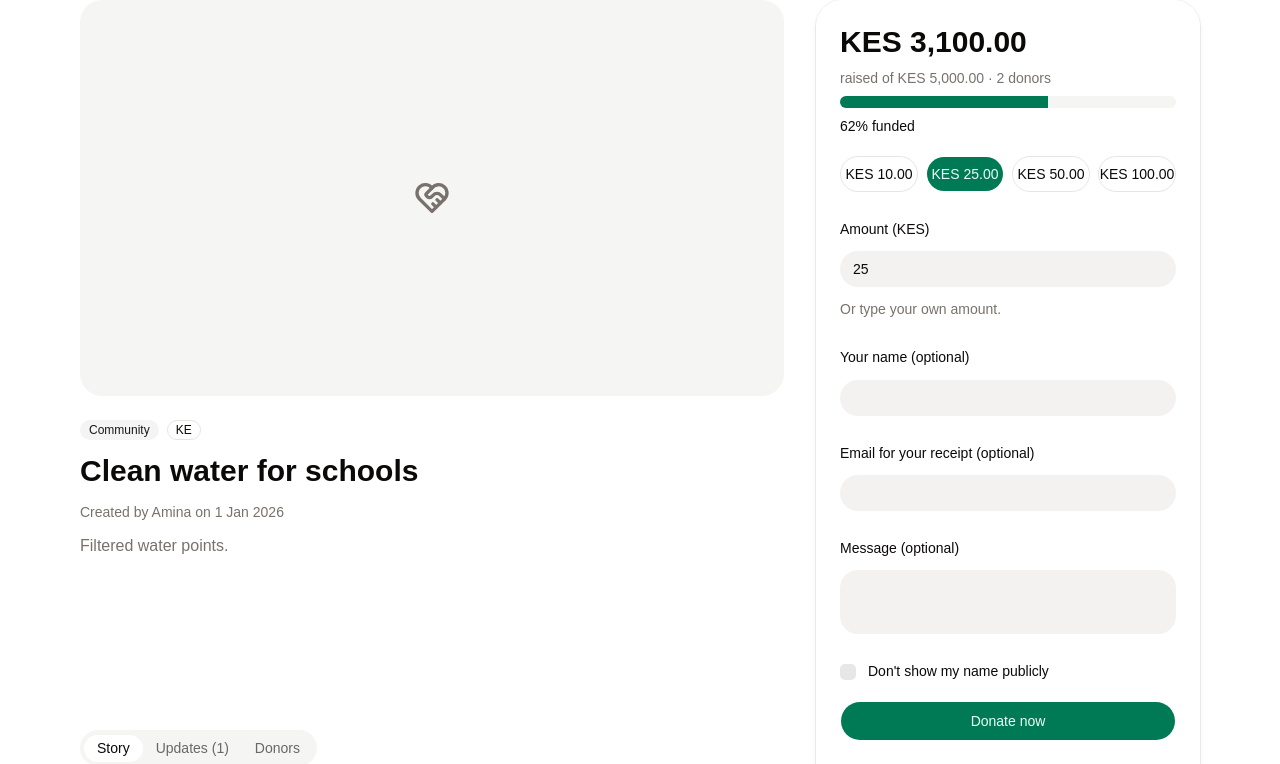
CampaignDetailsPage › switches between the story, updates and donors tabs
Click the tab "Updates (1)".
click(192, 748)  # box [143, 734, 242, 762]
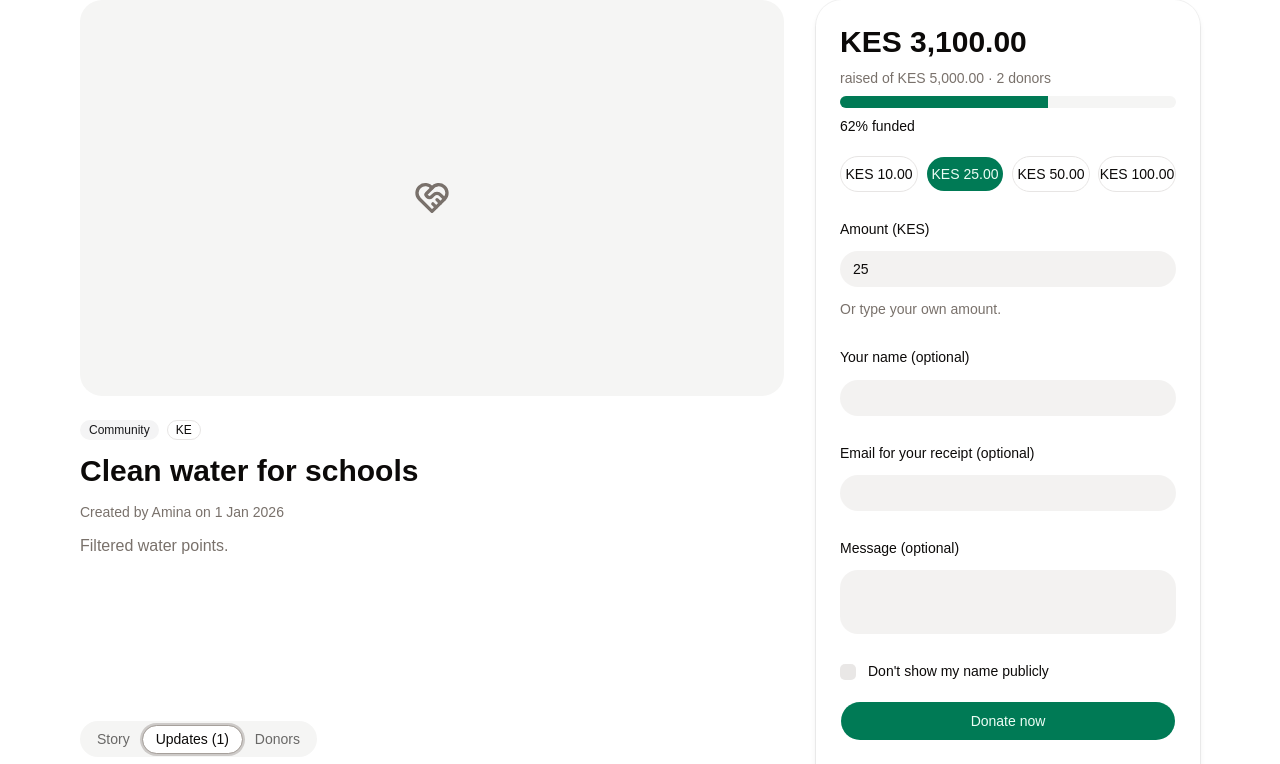
Click the tab "Donors".
click(277, 739)  # box [242, 726, 313, 753]
(page scrolled)
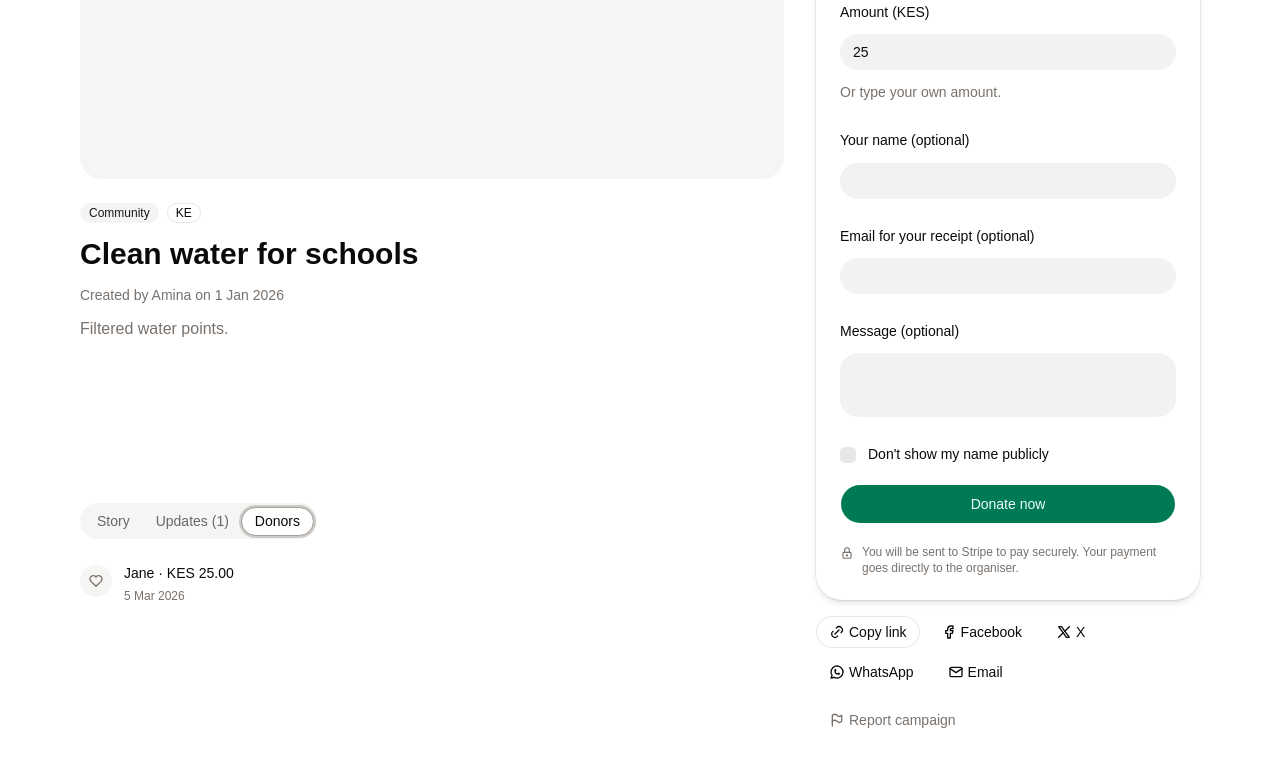
Result: the text "Jane · KES 25.00" is shown at [124, 563, 234, 583]
